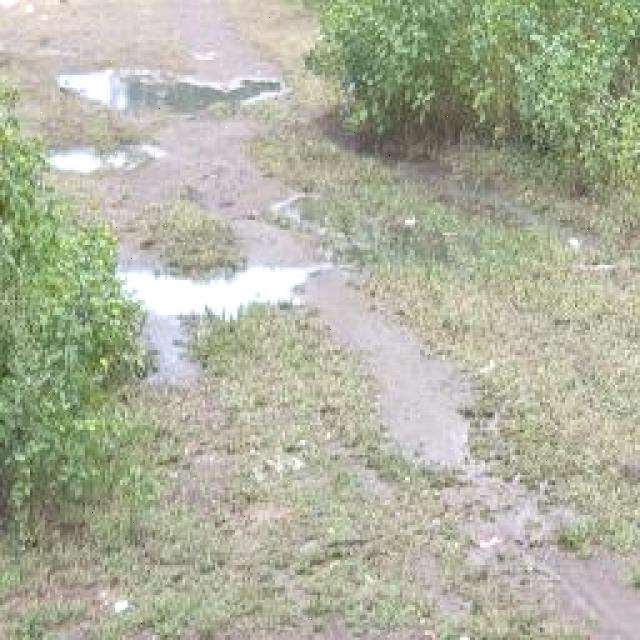stagnation: (59, 58, 285, 122), (38, 136, 170, 182)
